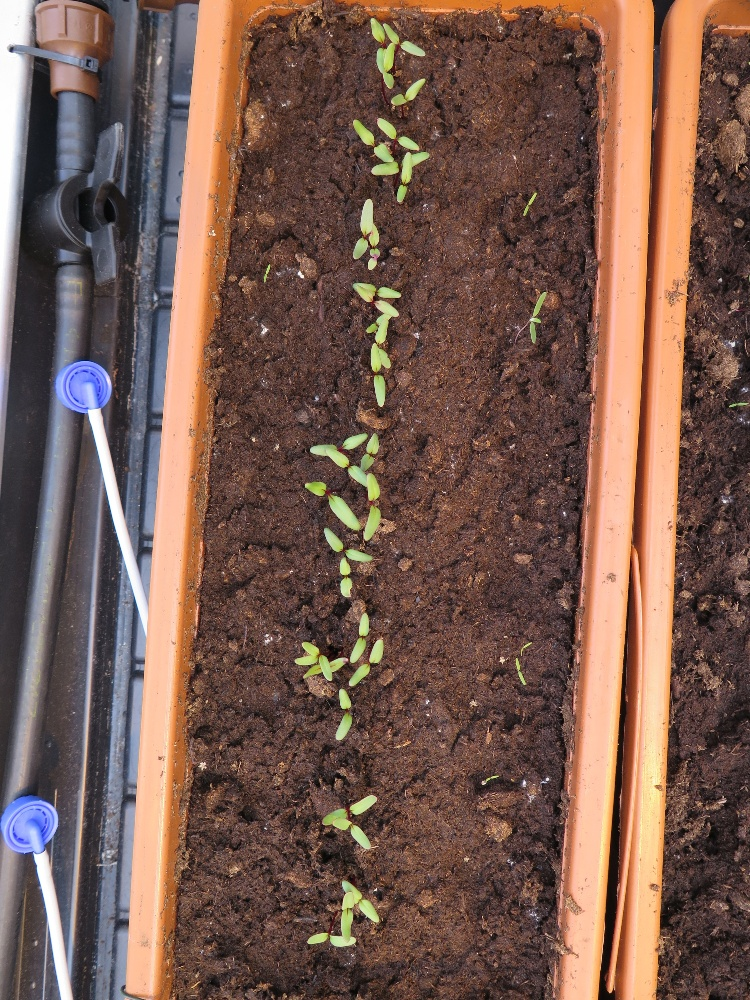crop: (305, 479, 361, 532), (348, 117, 393, 166), (321, 524, 374, 565), (381, 18, 430, 60), (349, 636, 389, 686), (319, 794, 379, 827), (325, 448, 374, 488), (374, 115, 422, 155), (340, 880, 381, 924), (370, 151, 434, 178), (353, 284, 402, 319), (331, 818, 380, 851), (351, 197, 375, 260), (362, 474, 383, 543), (300, 640, 334, 682), (307, 433, 370, 455), (368, 340, 388, 405), (299, 657, 348, 683), (390, 75, 425, 110), (306, 931, 367, 951), (336, 891, 359, 944), (348, 611, 370, 665), (357, 434, 383, 475), (334, 687, 353, 743), (369, 16, 388, 70), (395, 152, 412, 206), (375, 319, 393, 370), (357, 281, 405, 300), (338, 556, 357, 599), (368, 223, 381, 272), (365, 312, 389, 335)
weed: (529, 288, 547, 347), (523, 189, 537, 218), (515, 655, 525, 685), (727, 400, 749, 411), (262, 261, 270, 284)
